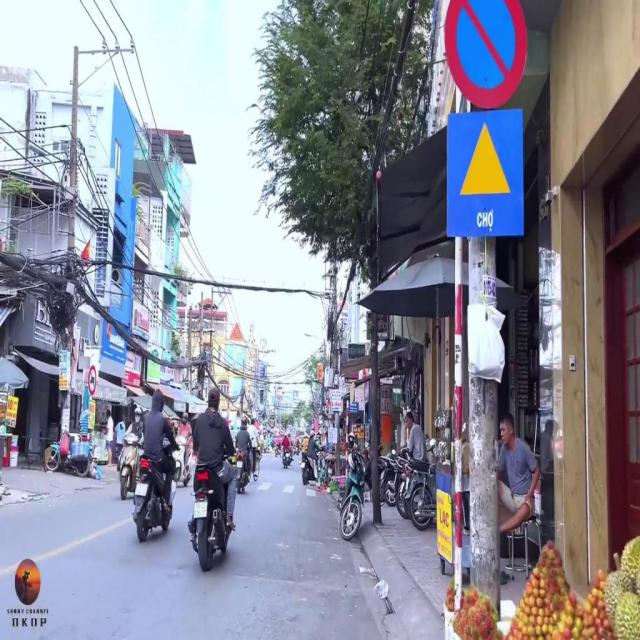cam_do_xe: (444, 0, 528, 108)
cam_o_to_tai: (88, 366, 96, 394)
cho: (447, 114, 521, 235)
